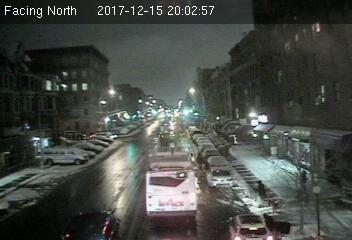bus: (145, 145, 199, 222)
car: (227, 213, 275, 240), (207, 168, 235, 186)
pedestrian: (255, 180, 268, 205)
